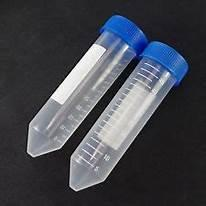Test tube: (26, 13, 195, 199)
